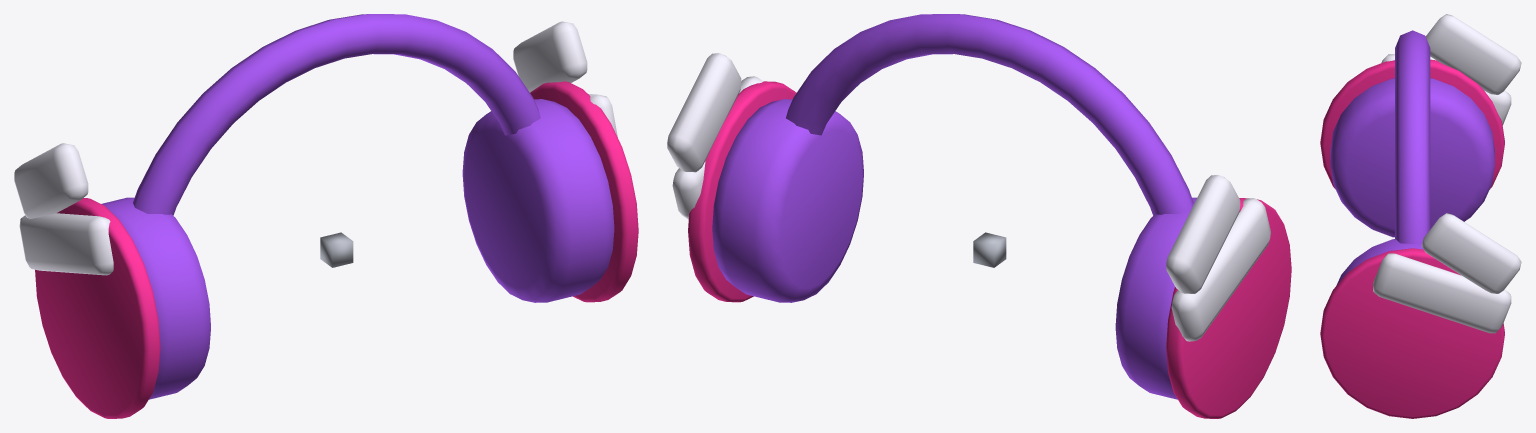
File: Heroic.fbx
The picture shows the model from 3 angles, left to right: view 1: azimuth 30°, elevation 25°; view 2: azimuth 150°, elevation 25°; view 3: azimuth 270°, elevation 25°; orthographic projection. The views are drawn at different scales.
Parts seen in each view (by area): view 1: Purplee, Pulse_Ring-1, Pulse_Ring1, Flap_EarWing-1_0, Flap_EarWing-1_1, Flap_EarWing1_1, KitOrigin; view 2: Purplee, Pulse_Ring-1, Pulse_Ring1, Flap_EarWing-1_0, Flap_EarWing-1_1, Flap_EarWing1_1, Flap_EarWing1_0, KitOrigin; view 3: Purplee, Pulse_Ring1, Flap_EarWing1_0, Flap_EarWing1_1, Flap_EarWing-1_1, Pulse_Ring-1, Flap_EarWing-1_0.
Boxes of the visible parts, <box> form: Purplee: <box>102,14,614,399</box>; Pulse_Ring-1: <box>35,198,160,418</box>; Pulse_Ring1: <box>530,81,638,302</box>; Flap_EarWing-1_0: <box>19,213,113,275</box>; Flap_EarWing-1_1: <box>14,143,88,218</box>; Flap_EarWing1_1: <box>513,21,587,92</box>; KitOrigin: <box>320,232,353,267</box>; Purplee: <box>712,14,1196,399</box>; Pulse_Ring-1: <box>1166,198,1291,418</box>; Pulse_Ring1: <box>688,81,796,302</box>; Flap_EarWing-1_0: <box>1171,198,1270,341</box>; Flap_EarWing-1_1: <box>1166,175,1240,293</box>; Flap_EarWing1_1: <box>667,53,741,172</box>; Flap_EarWing1_0: <box>672,76,763,219</box>; KitOrigin: <box>973,232,1006,267</box>; Purplee: <box>1330,30,1494,285</box>; Pulse_Ring1: <box>1320,248,1504,418</box>; Flap_EarWing1_0: <box>1373,253,1511,333</box>; Flap_EarWing1_1: <box>1421,213,1521,293</box>; Flap_EarWing-1_1: <box>1425,14,1521,94</box>; Pulse_Ring-1: <box>1320,59,1504,189</box>; Flap_EarWing-1_0: <box>1381,54,1511,125</box>.
Size of the model in its own units: 2.52 by 1.53 by 1.02.
